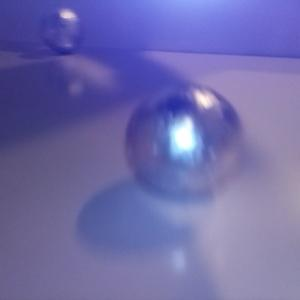alive_ball: (125, 82, 243, 195), (40, 7, 85, 53)
